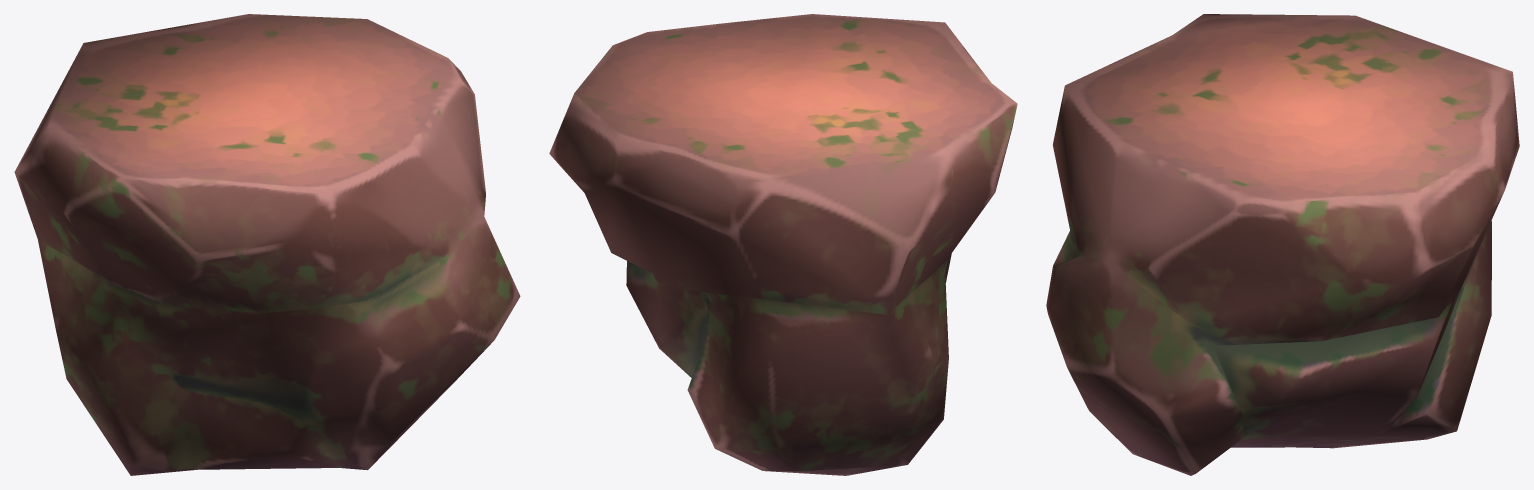
Rendered from env_cavePlatforms.gltf.
3 renders of one model, left to right at view 1: azimuth 30°, elevation 25°; view 2: azimuth 150°, elevation 25°; view 3: azimuth 270°, elevation 25°, orthographic. The views are drawn at different scales.
Parts seen in each view (by area): view 1: rockplatform04_low; view 2: rockplatform04_low; view 3: rockplatform04_low.
Part boxes in pixels (box(x1,y1,x2,y2)): rockplatform04_low: box(14, 14, 520, 475); rockplatform04_low: box(549, 14, 1017, 475); rockplatform04_low: box(1046, 14, 1519, 475).
Size of what is drawn, in the model's own units: 3.04 by 2.67 by 3.04.
Materials: 1 (1 with a texture image).
